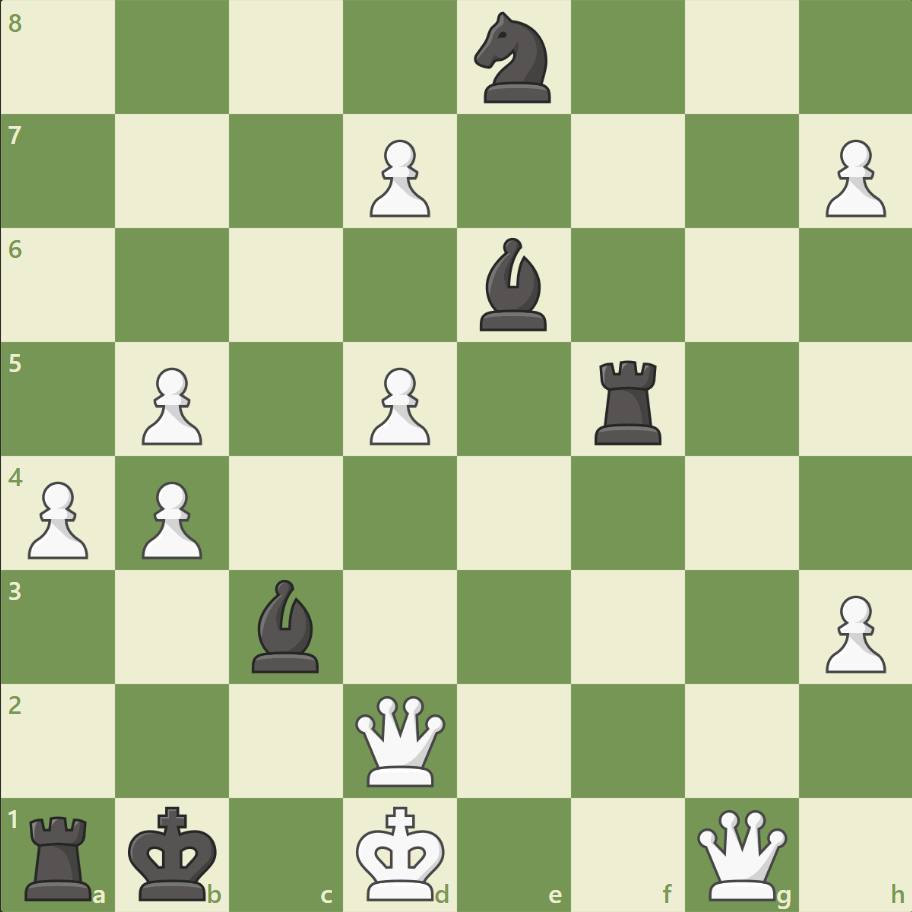K: (351, 798, 451, 906)
P: (133, 359, 208, 450), (20, 473, 95, 564), (133, 473, 208, 564), (361, 132, 435, 223), (815, 132, 889, 223), (361, 359, 435, 450), (815, 586, 889, 677)
Q: (351, 690, 450, 789), (691, 804, 790, 903)
b: (471, 233, 555, 336), (244, 574, 328, 676)
k: (124, 798, 224, 906)
n: (465, 7, 562, 110)
r: (19, 806, 102, 904), (587, 352, 670, 449)
